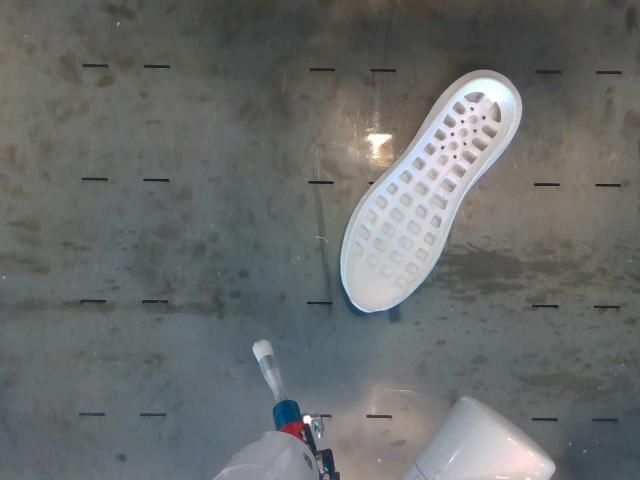shoes: (345, 78, 515, 311)
